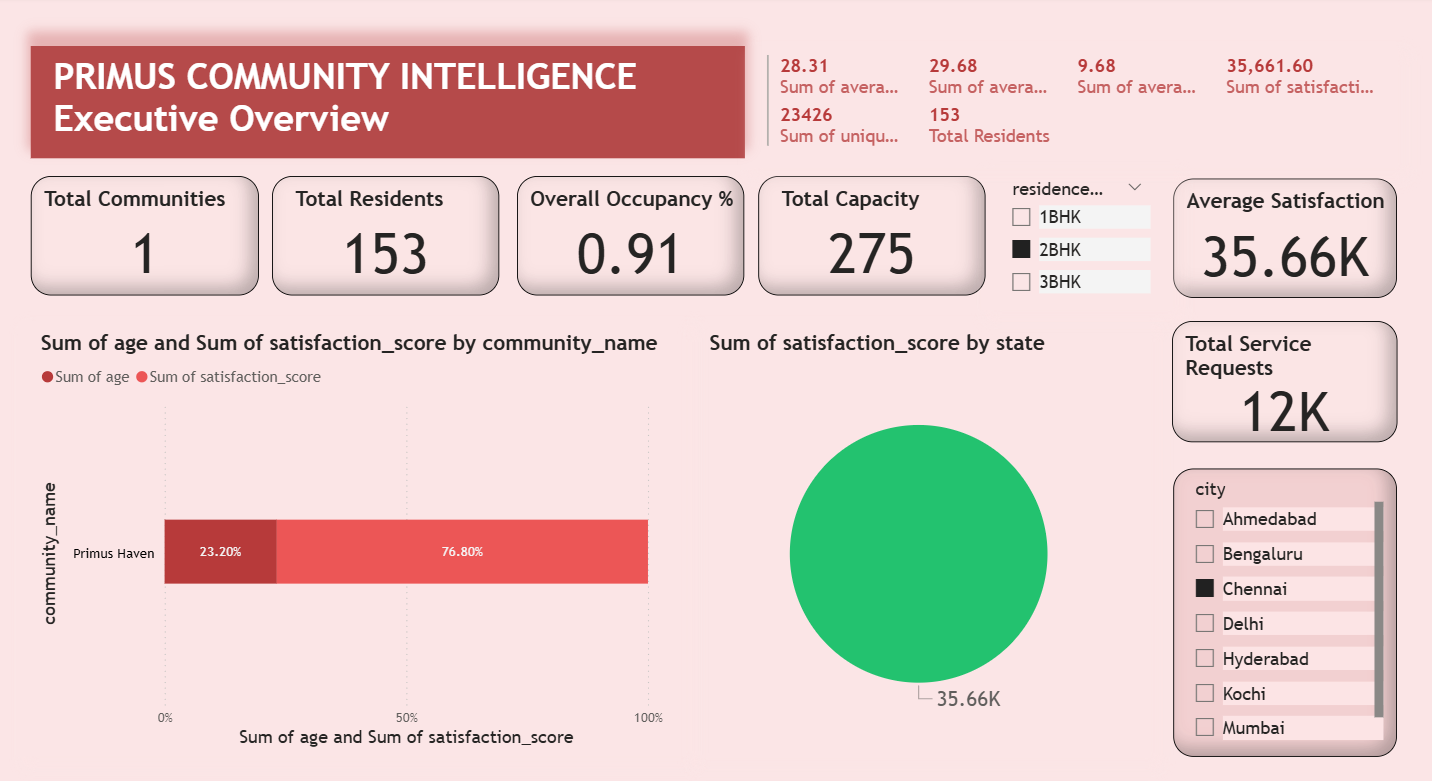

The dashboard page shown, as its layout file describes it:
{"tool":"powerbi","page":{"name":"Page 1","canvas":[1280,720],"ordinal":0},"visuals":[{"type":"textbox","box":[30.2,44.6,635.8,100.1],"z":0},{"type":"card","title":"Total Communities","fields":{"Values":["communities.Total Communities"]},"box":[30.6,160.2,203,106.4],"z":1000},{"type":"card","title":"Total Residents","fields":{"Values":["residents.Total Residents"]},"box":[244.9,160.5,202.7,106.2],"z":2000},{"type":"card","title":"Overall Occupancy %","fields":{"Values":["communities.Overall Occupancy %"]},"box":[463.3,160.5,202.7,106.2],"z":3000},{"type":"card","title":"Total Capacity","fields":{"Values":["communities.Total Capacity"]},"box":[678,160.5,202.7,106.2],"z":4000},{"type":"card","title":"Average Satisfaction","fields":{"Values":["Sum(resident_engagement.satisfaction_score)"]},"box":[1048,162.6,199.3,106.4],"z":5000},{"type":"card","title":"Total Service Requests","fields":{"Values":["Sum(resident_engagement.service_requests)"]},"box":[1046.7,289.8,200.5,107.6],"z":6000},{"type":"hundredPercentStackedBarChart","fields":{"Y":["Sum(residents.age)","Sum(resident_engagement.satisfaction_score)"],"Category":["communities.community_name"]},"box":[19.3,289.5,594.8,387.3],"z":7000},{"type":"pieChart","fields":{"Category":["communities.state"],"Y":["Sum(resident_engagement.satisfaction_score)"]},"box":[614.1,289.5,412.6,388.5],"z":8000},{"type":"slicer","fields":{"Values":["communities.city"]},"box":[1048,420.7,199.3,256.8],"z":9000},{"type":"slicer","fields":{"Values":["residents.residence_type"]},"box":[875.9,153.2,171.3,125.5],"z":10000},{"type":"multiRowCard","fields":{"Values":["Sum(community_experience_summary.average_activities)","Sum(community_experience_summary.average_satisfaction)","Sum(community_experience_summary.average_service_requests)","Sum(resident_engagement.satisfaction_score)","Sum(resident_engagement.unique_activity_types)","residents.Total Residents"]},"box":[666,44.6,581.5,108.6],"z":11000}]}

Visuals, with their boxes in screenshot pixels (x1, y1, x2, y2):
textbox: x1=143, y1=83, x2=798, y2=186
"Total Communities" card: x1=143, y1=202, x2=352, y2=312
"Total Residents" card: x1=364, y1=203, x2=573, y2=312
"Overall Occupancy %" card: x1=589, y1=203, x2=798, y2=312
"Total Capacity" card: x1=810, y1=203, x2=1019, y2=312
"Average Satisfaction" card: x1=1191, y1=205, x2=1396, y2=314
"Total Service Requests" card: x1=1190, y1=336, x2=1396, y2=446
hundredPercentStackedBarChart - Sum(residents.age) x Sum(resident_engagement.satisfaction_score): x1=132, y1=335, x2=744, y2=734
pieChart - communities.state x Sum(resident_engagement.satisfaction_score): x1=744, y1=335, x2=1169, y2=735
slicer - communities.city: x1=1191, y1=470, x2=1396, y2=735
slicer - residents.residence_type: x1=1014, y1=195, x2=1190, y2=324
multiRowCard - Sum(community_experience_summary.average_activities) x Sum(community_experience_summary.average_satisfaction): x1=798, y1=83, x2=1396, y2=195
